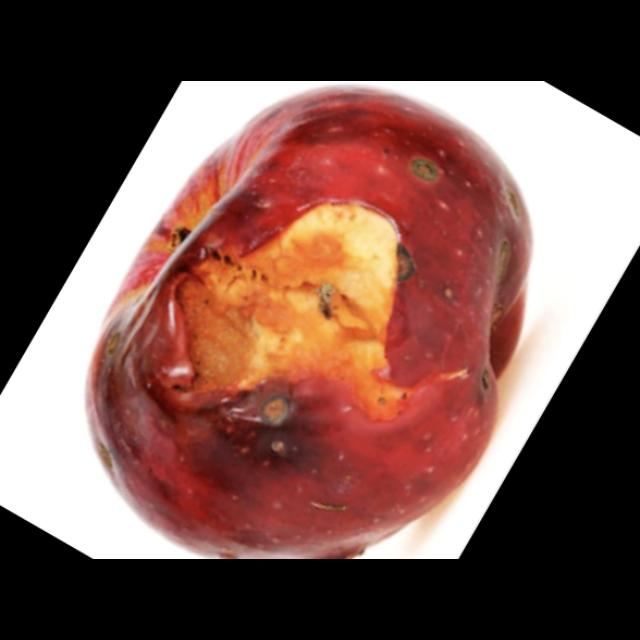Apel Tidak Segar: (32, 86, 622, 560)
